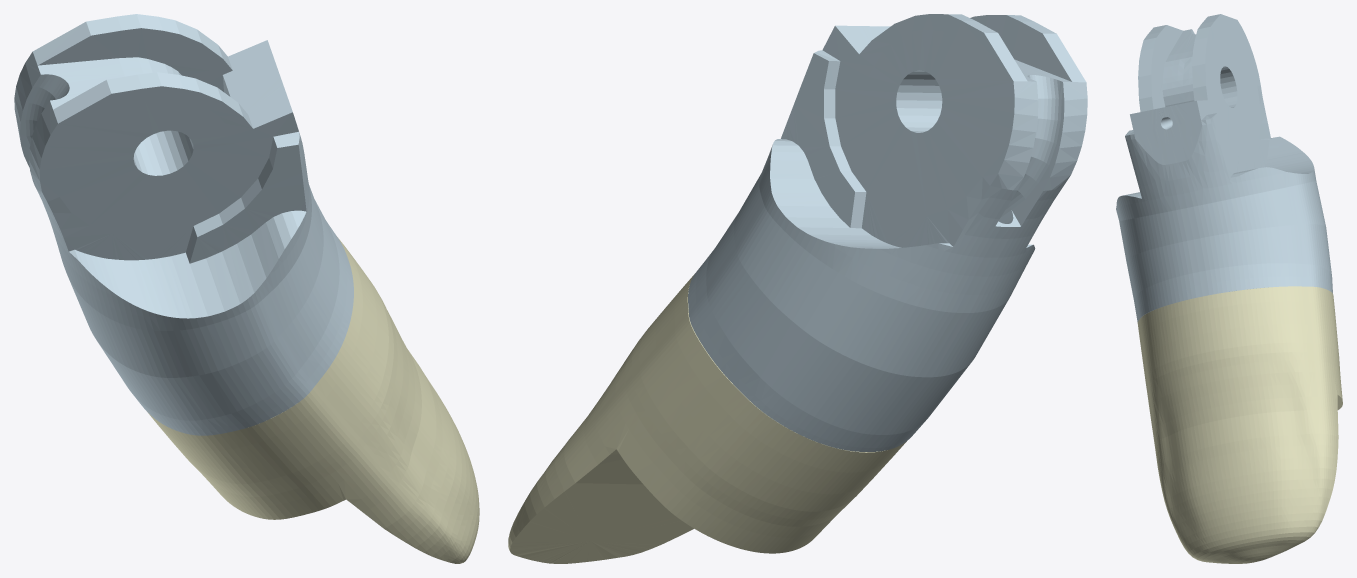
Rendered from i02_leftHand_ThumbTip_visual.obj.full.glb.
3 views of the same model, side by side, from view 1: azimuth 30°, elevation 25°; view 2: azimuth 150°, elevation 25°; view 3: azimuth 270°, elevation 25° (orthographic). The views are drawn at different scales.
Size of the model in its own units: 0.3346 by 0.4094 by 0.1975.
